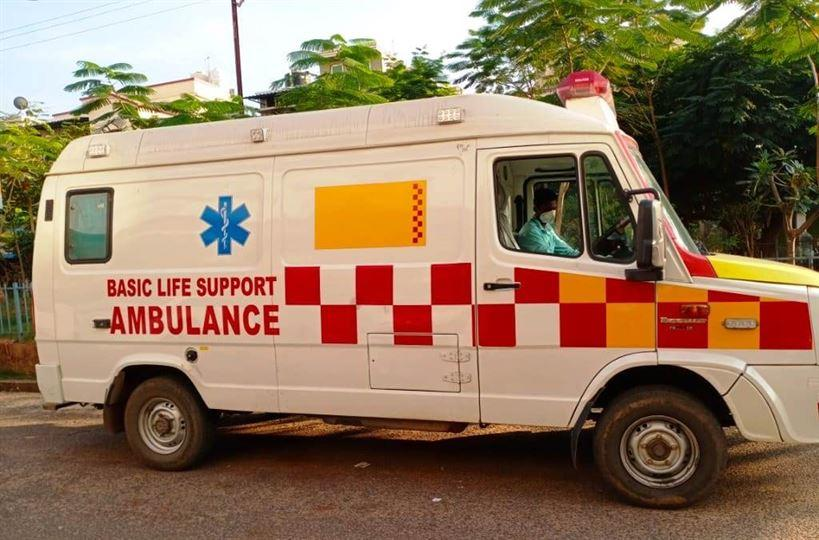ER: (31, 68, 819, 506)
